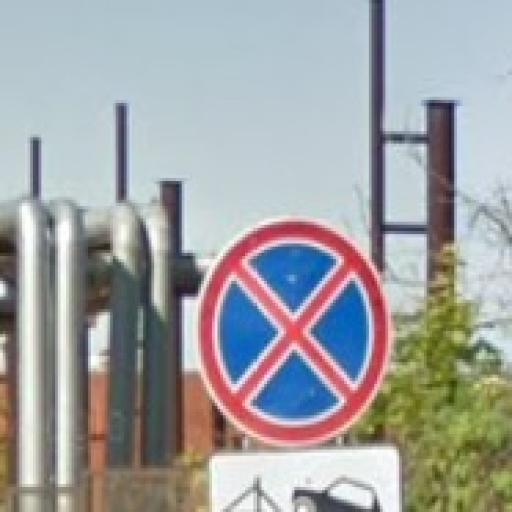traffic_sign: (194, 217, 392, 451)
